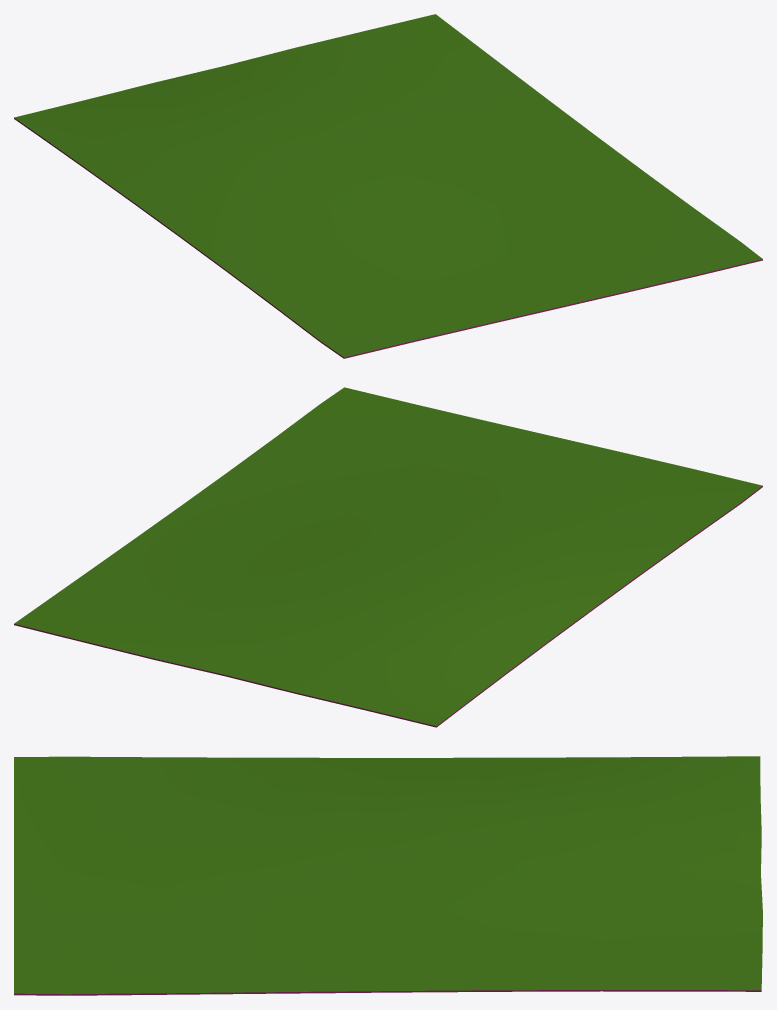
The model's file is Gela MŻIH-A-900_1.FBX.
3 renders of one model, top to bottom at view 1: azimuth 30°, elevation 25°; view 2: azimuth 150°, elevation 25°; view 3: azimuth 270°, elevation 25°, orthographic. The views are drawn at different scales.
Parts seen in each view (by area): view 1: Box001; view 2: Box001; view 3: Box001.
Boxes of the visible parts, x1,y1,x2,y2 form: Box001: (14,14,762,358); Box001: (14,387,762,727); Box001: (14,756,762,995).
Bounding box in the file's own units: 15.98 × 0.6365 × 21.6.
